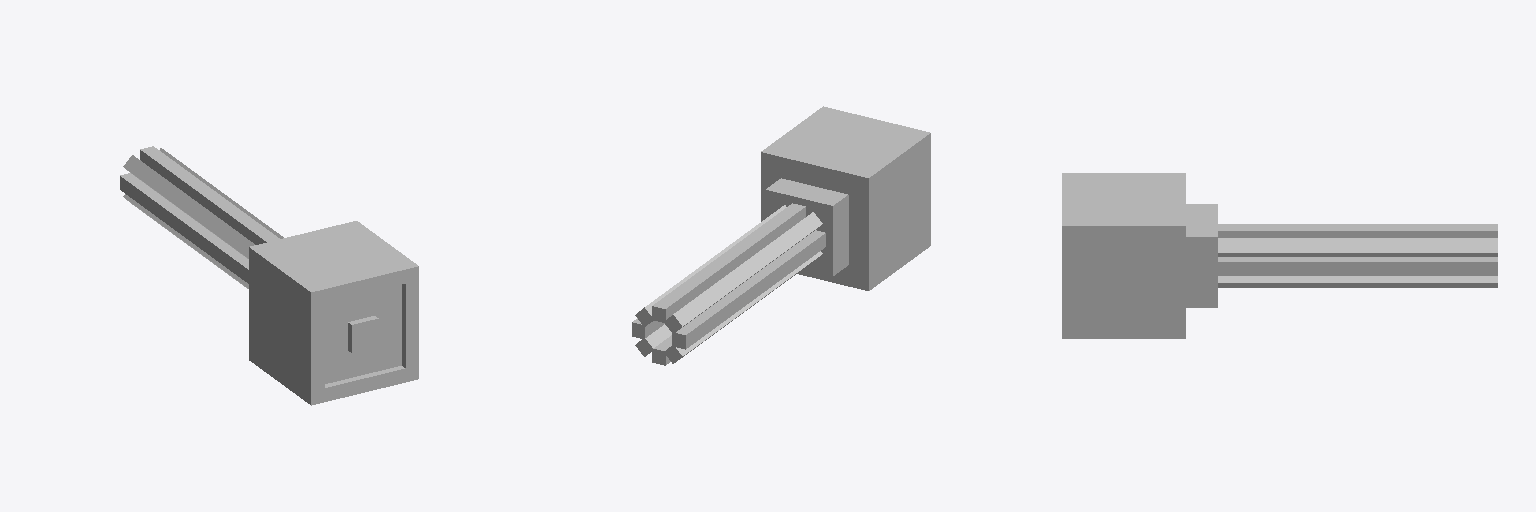
File: turret.obj
3 views of the same model, side by side, from view 1: azimuth 30°, elevation 25°; view 2: azimuth 150°, elevation 25°; view 3: azimuth 270°, elevation 25° (orthographic).
Visible parts, largest first — view 1: cube.003, cube.005, cube.013, cube.007, cube, cube.004, cube.002, cube.001, Axis, cube.010; view 2: cube.003, cube.008, cube.005, cube.013, cube.007, cube.010, cube.006; view 3: cube.003, cube.006, cube.012, cube.013, cube.009, cube.008, cube.001.
Boxes of the visible parts, box(x1,y1,x2,y2) form: cube.003: box(249, 221, 414, 401); cube.005: box(120, 173, 248, 283); cube.013: box(140, 146, 279, 244); cube.007: box(123, 155, 254, 258); cube: box(307, 263, 418, 306); cube.004: box(307, 365, 418, 405); cube.002: box(307, 303, 324, 390); cube.001: box(402, 281, 418, 367); Axis: box(348, 316, 378, 352); cube.010: box(123, 194, 248, 288); cube.003: box(761, 109, 926, 290); cube.008: box(765, 178, 848, 276); cube.005: box(672, 230, 825, 349); cube.013: box(652, 203, 805, 322); cube.007: box(664, 212, 822, 332); cube.010: box(664, 251, 822, 363); cube.006: box(635, 205, 786, 326); cube.003: box(1069, 173, 1185, 338); cube.006: box(1218, 238, 1497, 256); cube.012: box(1218, 257, 1497, 275); cube.013: box(1218, 224, 1497, 237); cube.009: box(1218, 276, 1497, 287); cube.008: box(1186, 204, 1217, 307); cube.001: box(1062, 240, 1068, 324).
Bounding box in the file's own units: 1 × 1 × 3.5.